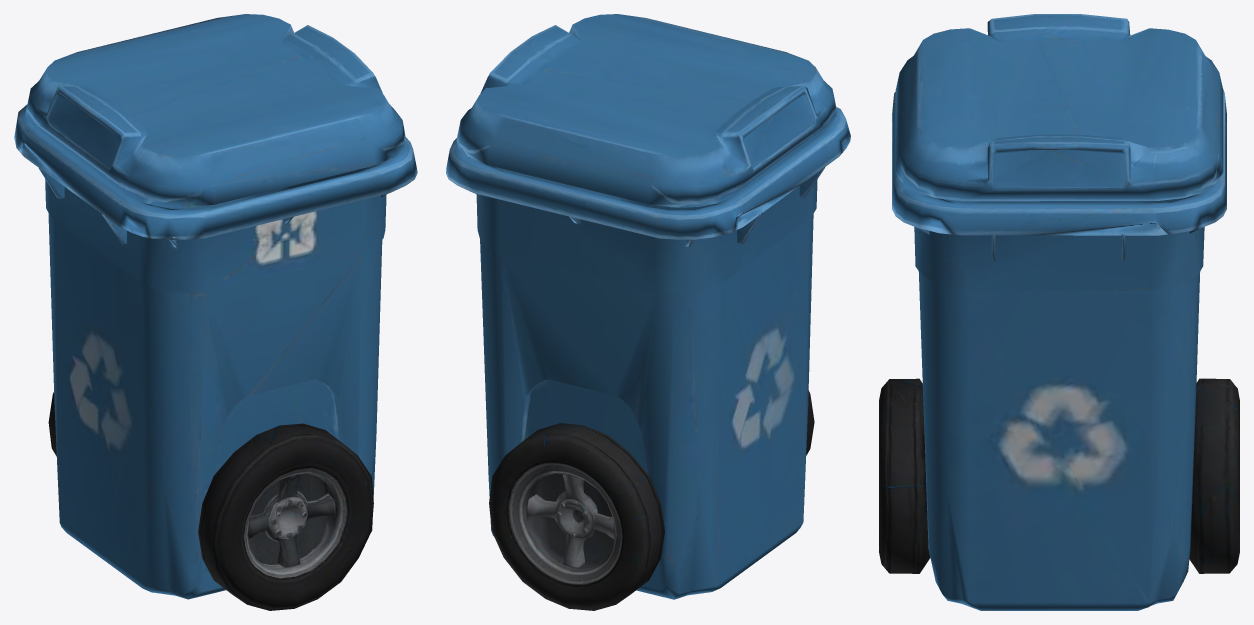
Rendered from recycling_bin.glb.
3 views of the same model, side by side, from view 1: azimuth 30°, elevation 25°; view 2: azimuth 150°, elevation 25°; view 3: azimuth 270°, elevation 25° (orthographic). The views are drawn at different scales.
Bounding box in the file's own units: 0.6138 × 0.9517 × 0.6353.
Materials: 1 (1 with a texture image).
